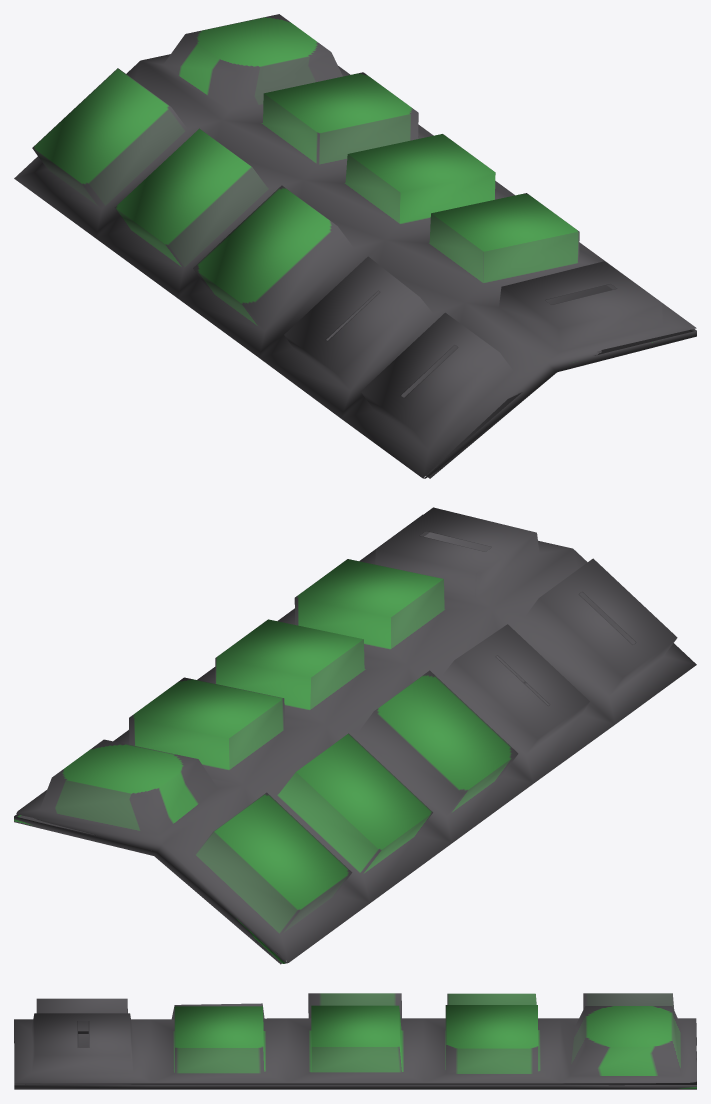
File: Pills.fbx
3 renders of one model, top to bottom at view 1: azimuth 30°, elevation 25°; view 2: azimuth 150°, elevation 25°; view 3: azimuth 270°, elevation 25°, orthographic. The views are drawn at different scales.
Parts seen in each view (by area): view 1: ExportPills; view 2: ExportPills; view 3: ExportPills.
Part boxes in pixels (x1=…): ExportPills: x1=14, y1=14, x2=696, y2=478; ExportPills: x1=14, y1=507, x2=696, y2=964; ExportPills: x1=14, y1=993, x2=696, y2=1089.
Bounding box in the file's own units: 2.98 × 1.25 × 7.7.
